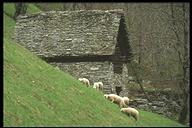house: (14, 11, 134, 92)
sheep: (105, 93, 132, 107), (120, 106, 140, 119), (77, 76, 90, 87), (93, 80, 103, 91)
